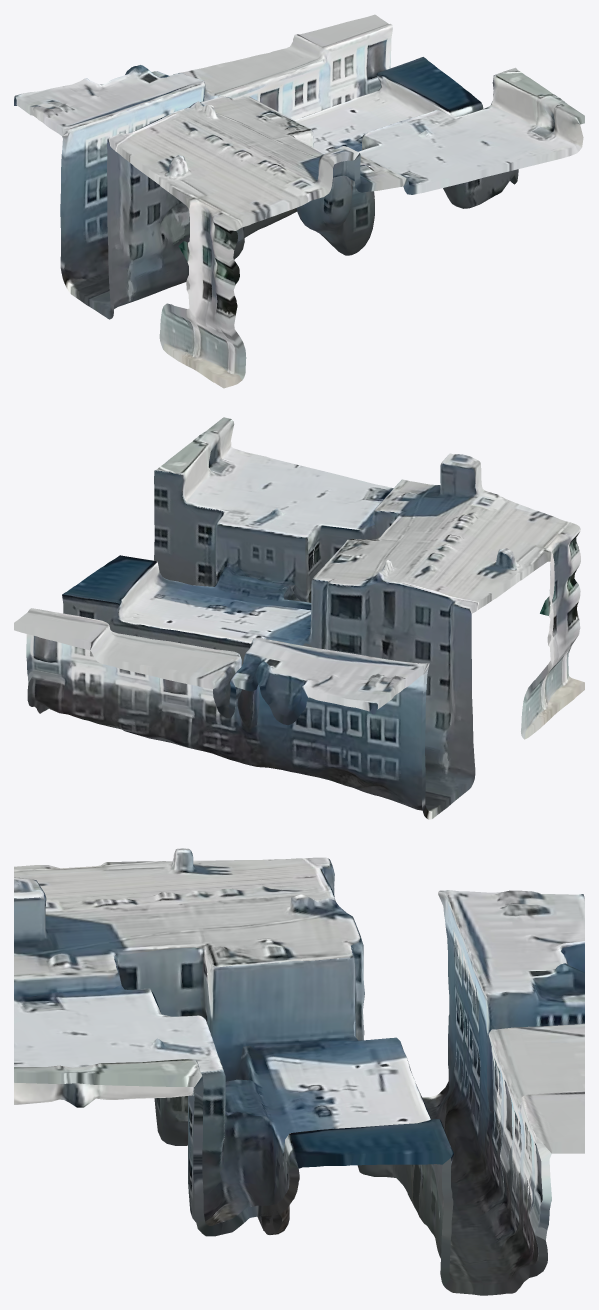
Rendered from z20-167748-405197-h0-yup-uvflip-v3-world.glb.
3 renders of one model, top to bottom at view 1: azimuth 30°, elevation 25°; view 2: azimuth 150°, elevation 25°; view 3: azimuth 270°, elevation 25°, orthographic. The views are drawn at different scales.
Size of the model in its own units: 30.16 by 17.84 by 30.32.
1 material, 1 textured.
